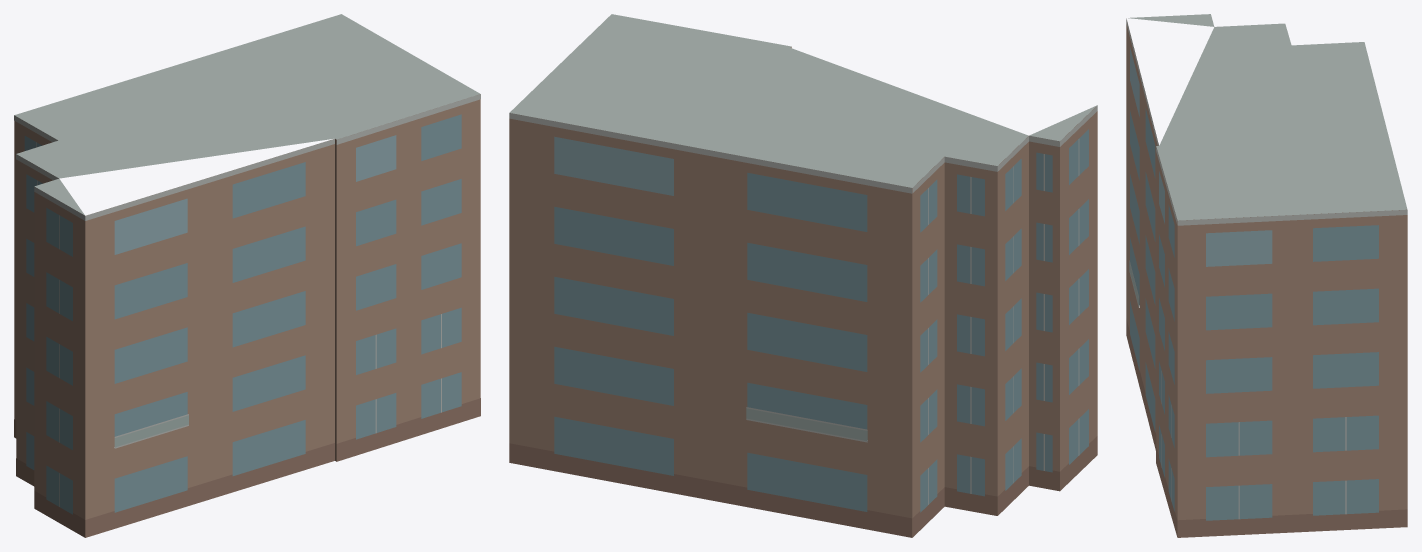
Rendered from survey-upis-33031943.glb.
The picture shows the model from 3 angles, left to right: view 1: azimuth 30°, elevation 25°; view 2: azimuth 150°, elevation 25°; view 3: azimuth 270°, elevation 25°; orthographic projection. The views are drawn at different scales.
Parts seen in each view (by area): view 1: survey-upis-33031943.tmp; view 2: survey-upis-33031943.tmp; view 3: survey-upis-33031943.tmp.
Part boxes in pixels (box(x1,y1,x2,y2)): survey-upis-33031943.tmp: box(14, 14, 480, 537); survey-upis-33031943.tmp: box(509, 14, 1097, 537); survey-upis-33031943.tmp: box(1126, 14, 1407, 537).
Size of the model in its own units: 20.65 by 14.79 by 11.88.
